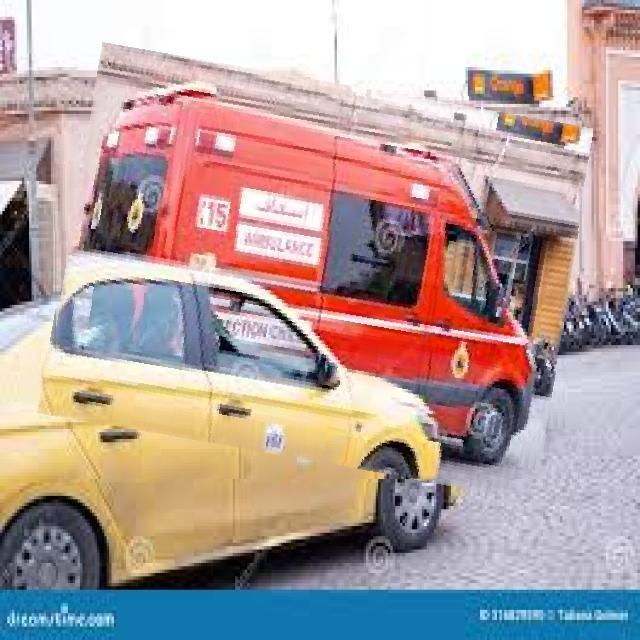ambulance: (52, 62, 579, 479)
